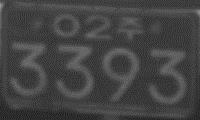0: (52, 13, 79, 37)
2: (84, 13, 112, 39)
3: (147, 48, 187, 105), (55, 44, 94, 99), (9, 41, 47, 97)
9: (101, 46, 140, 101)
주: (115, 16, 142, 40)
